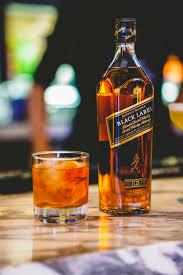alcohol: (96, 18, 152, 216)
